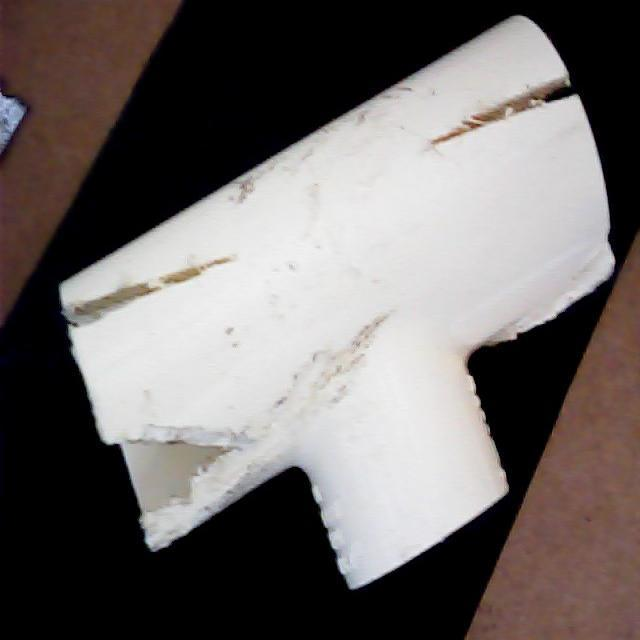Defective: (85, 394, 279, 542), (211, 86, 395, 226), (54, 246, 251, 344), (445, 222, 603, 342), (267, 313, 416, 420), (407, 75, 596, 154)
T Joint: (58, 15, 619, 595)
